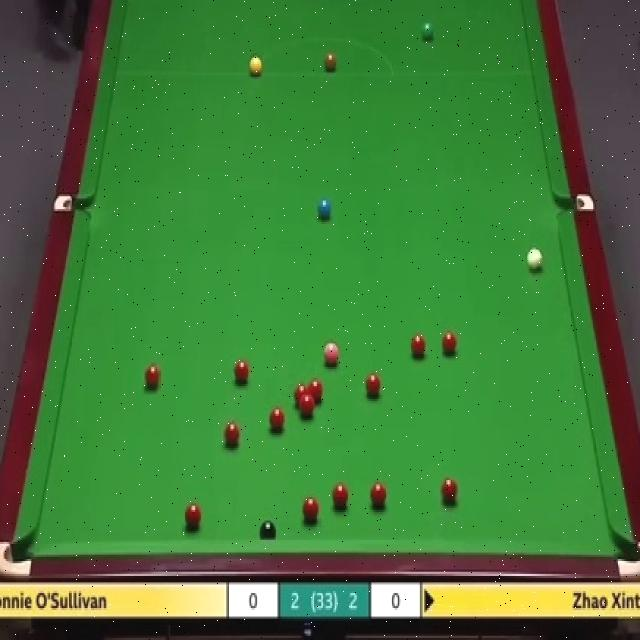black-ball: (259, 521, 276, 538)
blue-ball: (316, 197, 331, 220)
brown-ball: (323, 52, 338, 73)
green-ball: (422, 18, 433, 40)
pink-ball: (322, 336, 338, 362)
red-ball: (299, 393, 316, 422), (184, 501, 202, 528), (301, 495, 319, 522), (332, 483, 349, 511), (232, 358, 251, 383), (306, 378, 324, 403), (266, 403, 282, 431), (441, 329, 457, 357), (441, 478, 458, 504), (223, 421, 240, 446), (144, 363, 160, 389), (370, 483, 387, 506), (366, 372, 381, 397), (295, 384, 309, 409), (411, 334, 426, 356)
white-ball: (527, 248, 542, 272)
yellow-ball: (247, 56, 263, 77)
